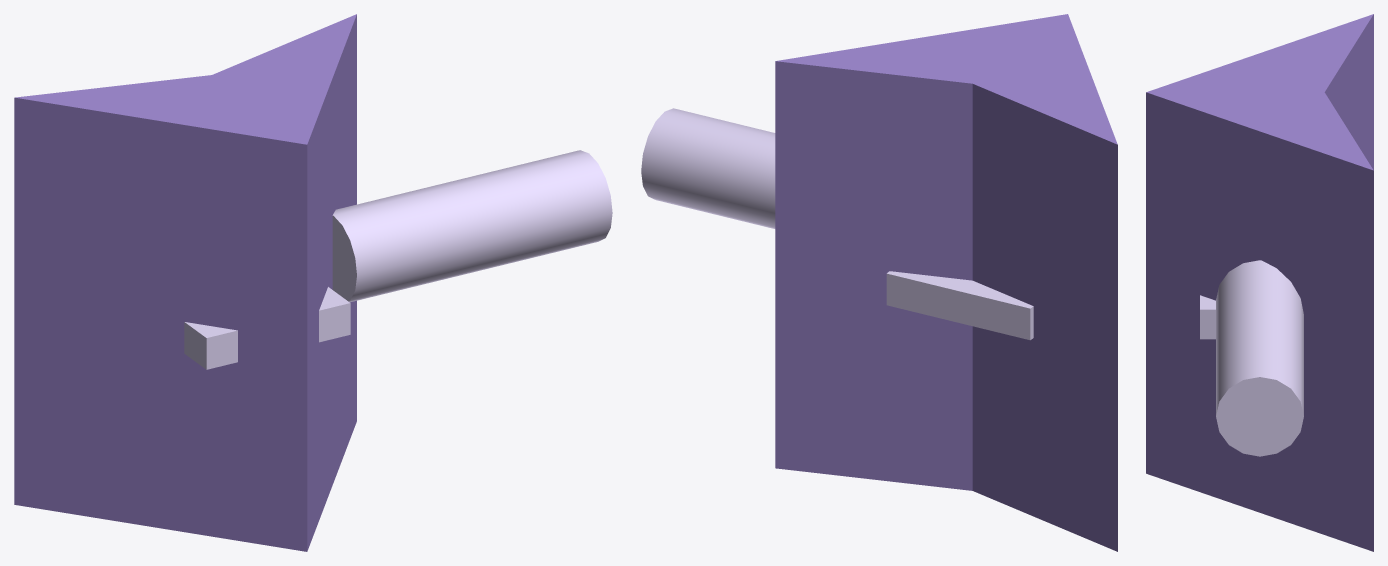
The model's file is flyer-shape-capacitor-wedge-v1.glb.
3 views of the same model, side by side, from view 1: azimuth 30°, elevation 25°; view 2: azimuth 150°, elevation 25°; view 3: azimuth 270°, elevation 25° (orthographic). The views are drawn at different scales.
Visible parts, largest first — view 1: Capacitor Wedge; view 2: Capacitor Wedge; view 3: Capacitor Wedge.
Part boxes in pixels (<box>): Capacitor Wedge: <box>14,14,612,551</box>; Capacitor Wedge: <box>641,14,1117,551</box>; Capacitor Wedge: <box>1146,14,1373,551</box>.
Size of the model in its own units: 1.77 by 1.34 by 0.725.
